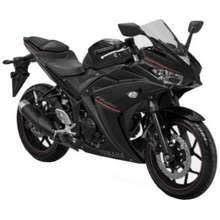motor: (10, 29, 216, 206)
